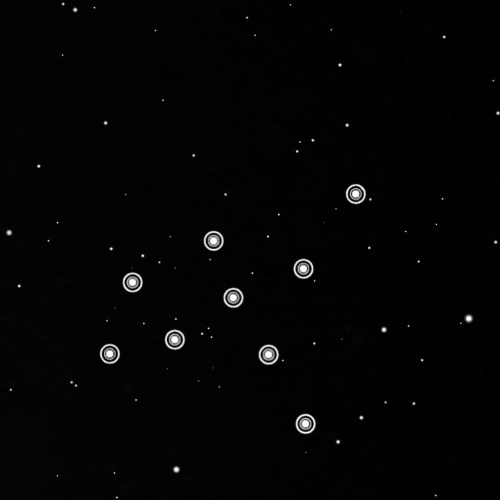cygnus: (94, 176, 370, 437)
